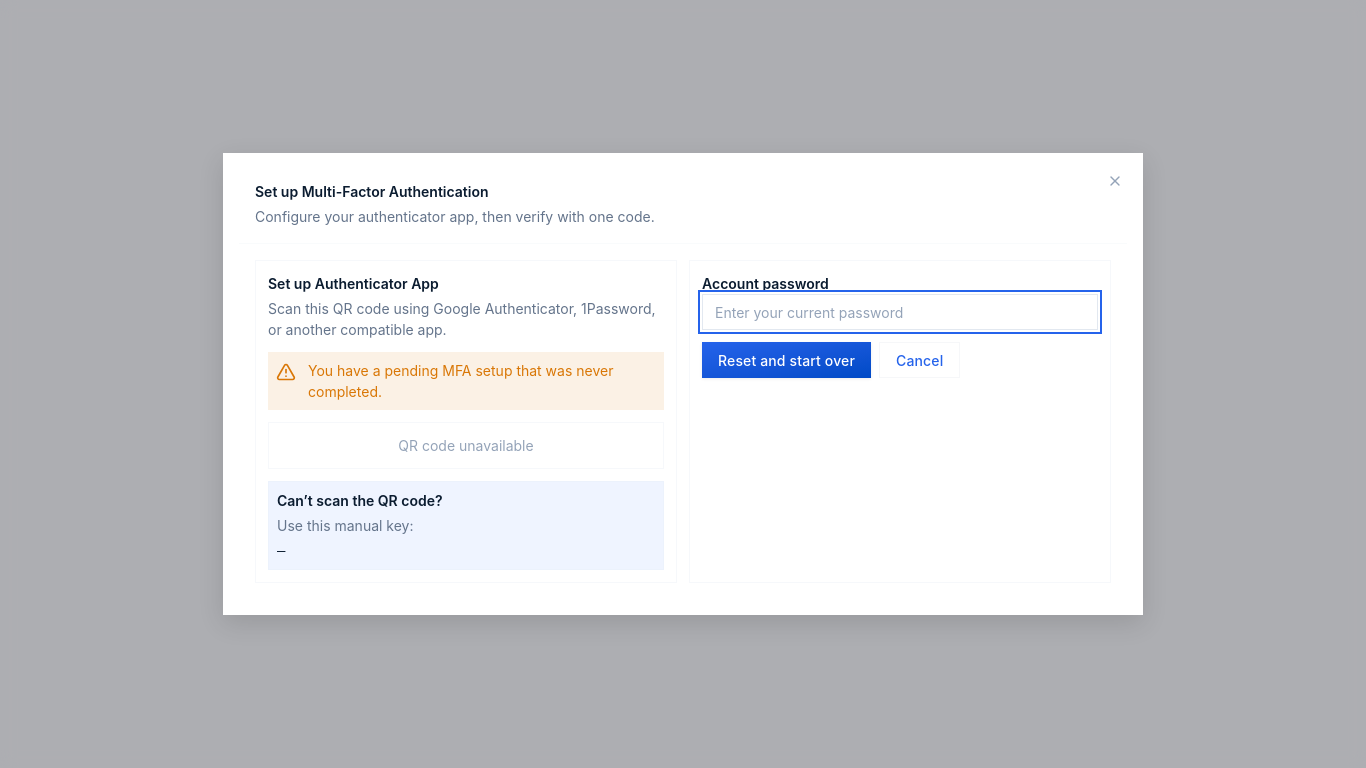
Test case: MfaTwoPanelModal recovery flow › invalid password error is surfaced to user › displays incorrect password error when API returns 400 with Invalid password
Type "wrongpassword" into the password field labelled "Account password" at coordinates (900, 312), box [702, 294, 1098, 330]
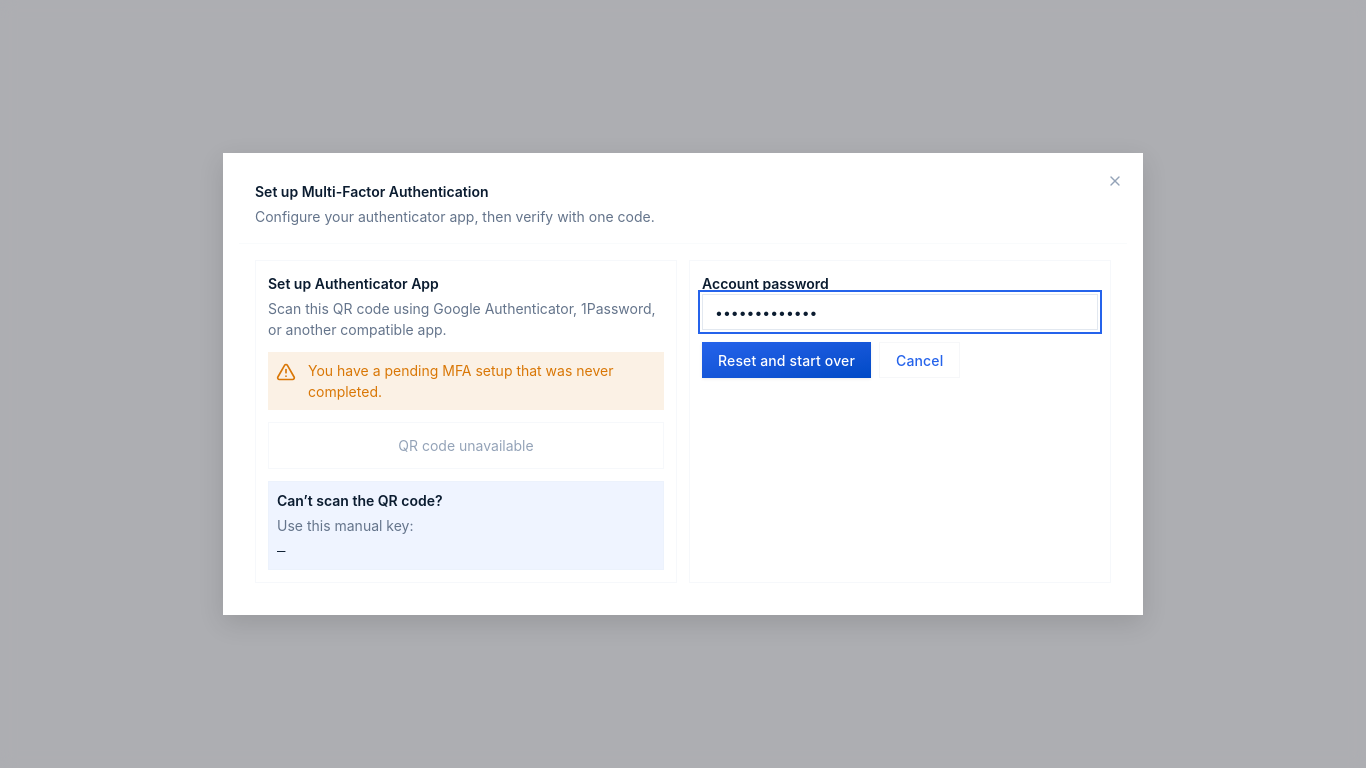
Click the button "Reset and start over" at coordinates (786, 360), box [702, 342, 871, 378]
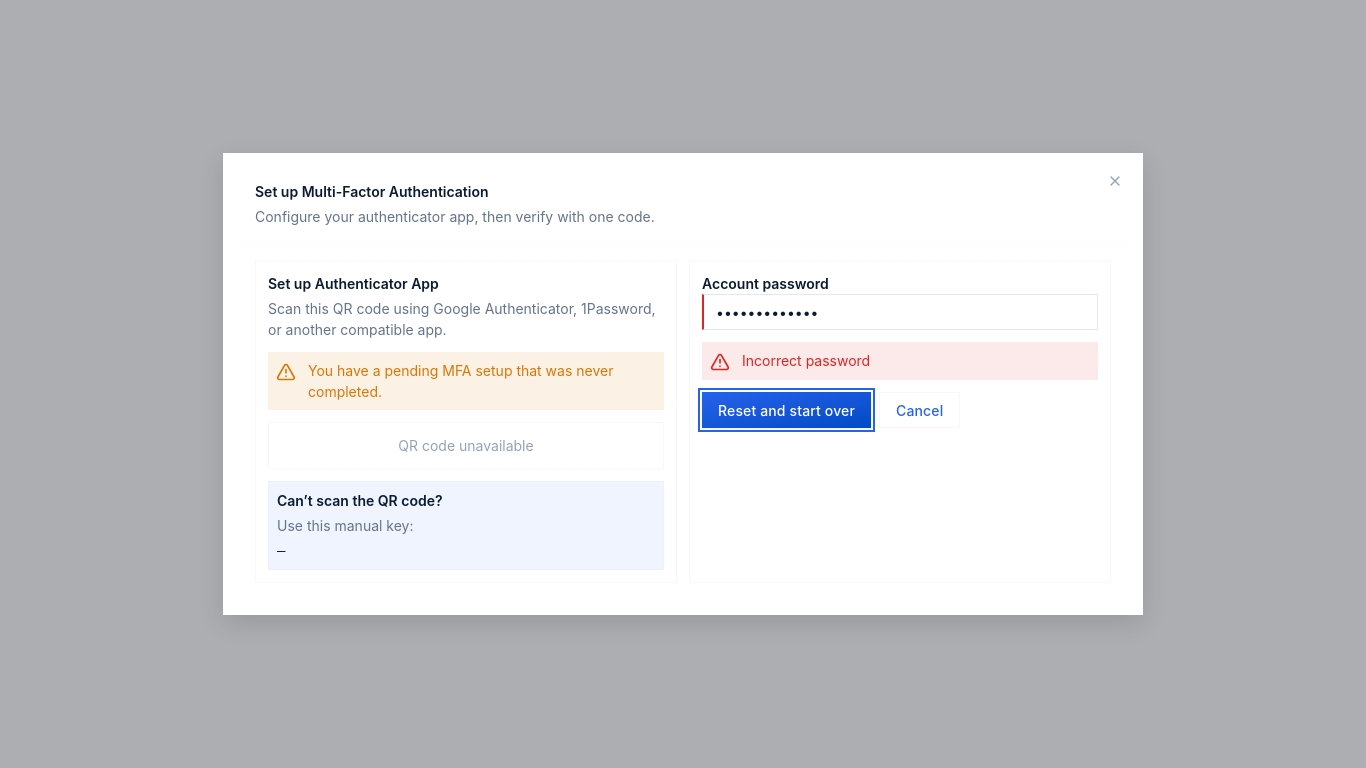
Now the text "Incorrect password" is shown, box [742, 350, 870, 371]
